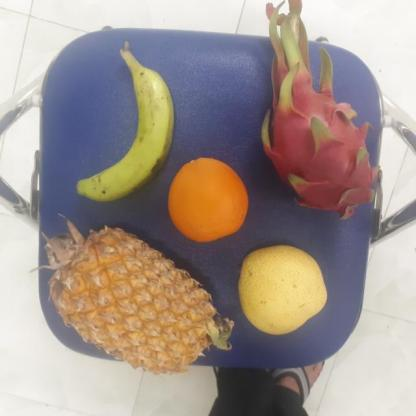banana: (81, 57, 173, 202)
orange: (166, 158, 250, 242)
pear: (232, 245, 331, 336)
pineapple: (36, 226, 223, 376)
pitaya: (252, 46, 380, 219)
